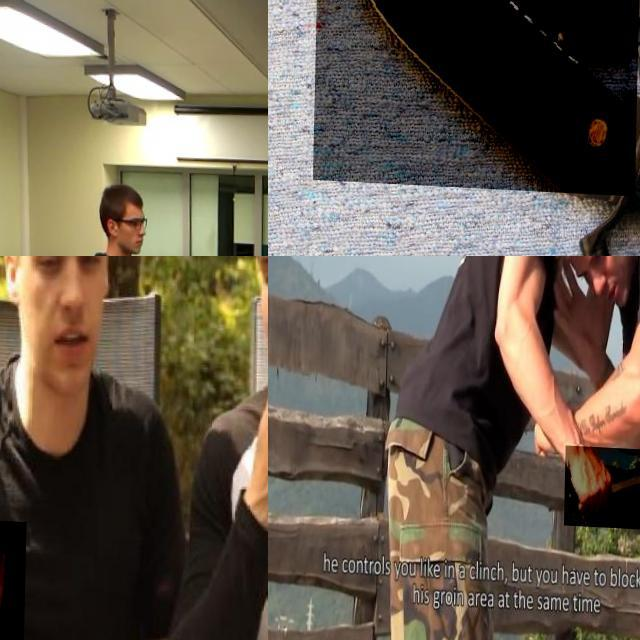-: (314, 0, 640, 192), (566, 441, 640, 525), (0, 517, 41, 640)
